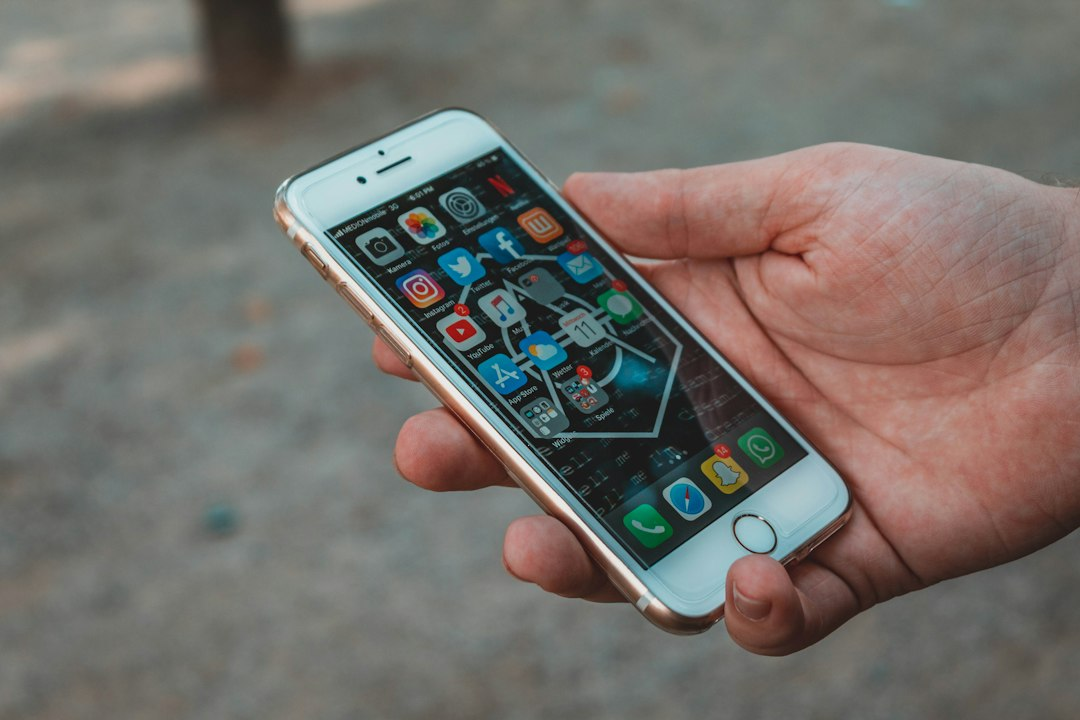phone: (272, 104, 857, 636)
